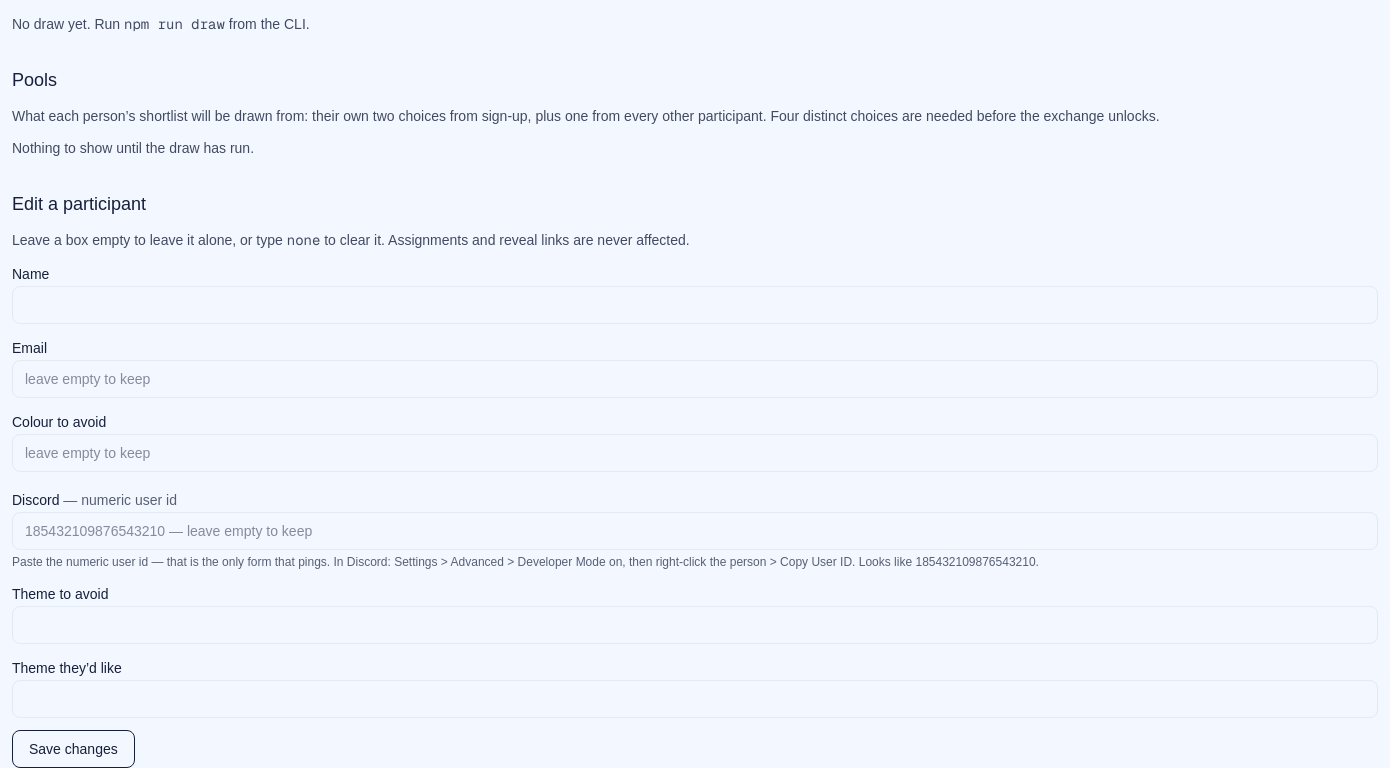
Scenario: AdminConsole, the Discord box › warns that a handle will not notify anybody
(page scrolled)
Type "ada_lovelace" into the field labelled "Discord". click: (695, 531)
box: [12,512,1378,550]
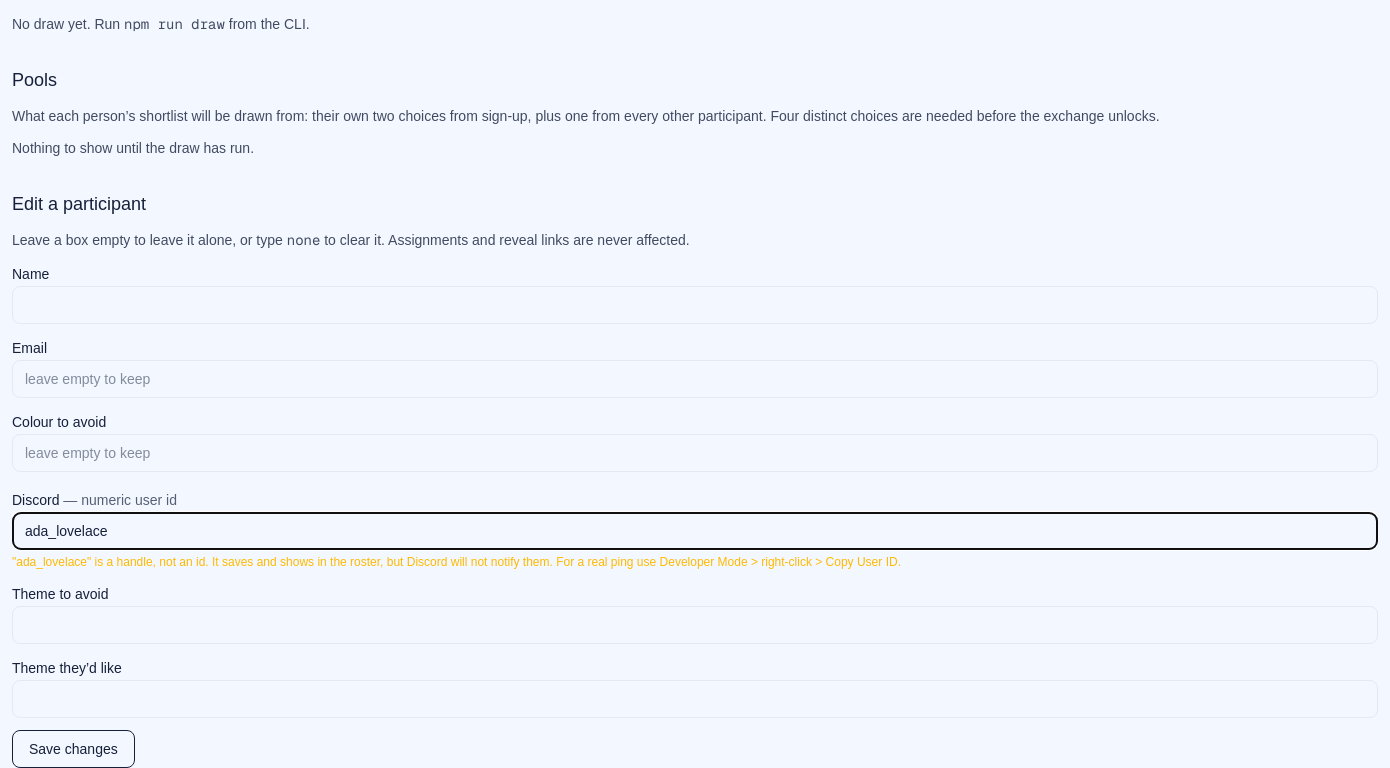
Check: the message shows "is a handle, not an id", box [12,555,901,569]
Check: the message shows "will not notify them", box [12,555,901,569]
